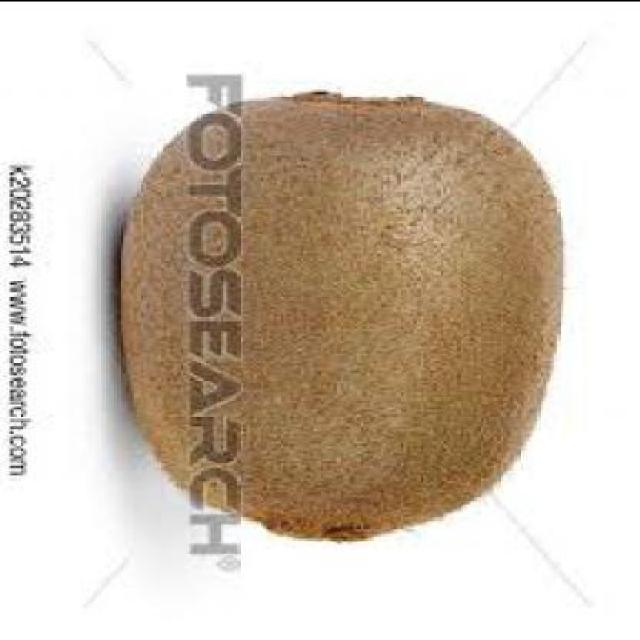BIODEGRADABLE: (121, 85, 573, 538)
